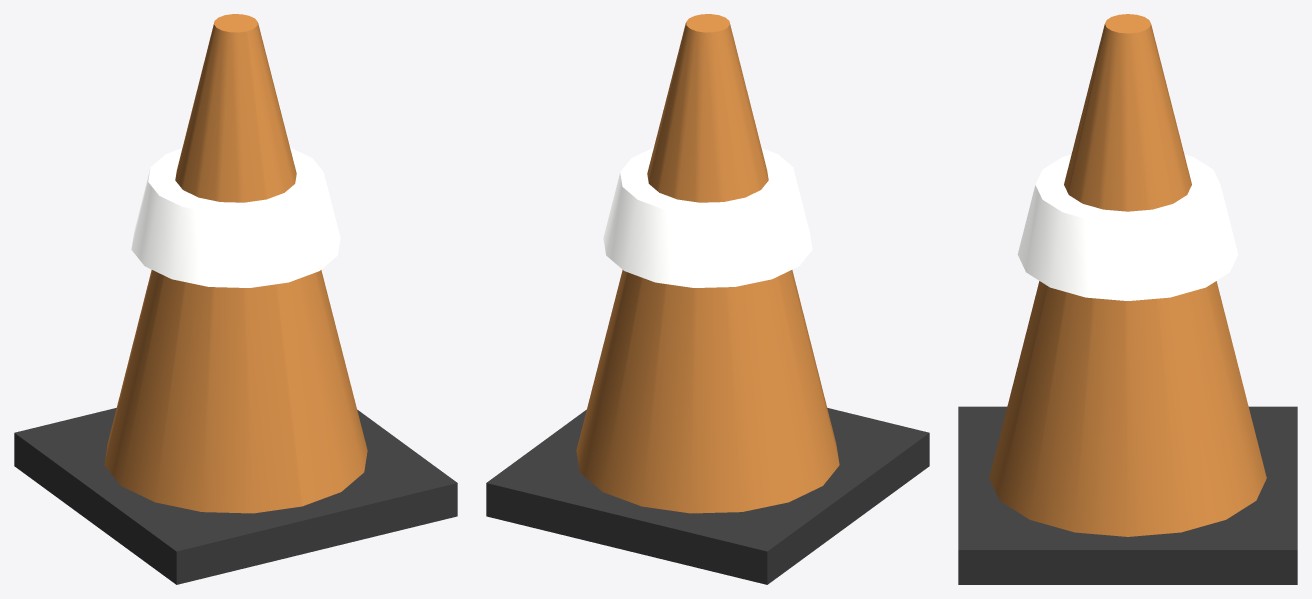
Rendered from prop_cone.glb.
3 views of the same model, side by side, from view 1: azimuth 30°, elevation 25°; view 2: azimuth 150°, elevation 25°; view 3: azimuth 270°, elevation 25° (orthographic). The views are drawn at different scales.
Visible parts, largest first — view 1: prop_cone; view 2: prop_cone; view 3: prop_cone.
Part boxes in pixels (x1,y1,x2,y2): prop_cone: (14, 14, 457, 584); prop_cone: (486, 14, 929, 584); prop_cone: (958, 14, 1297, 584).
Bounding box in the file's own units: 0.44 × 0.7 × 0.44.
